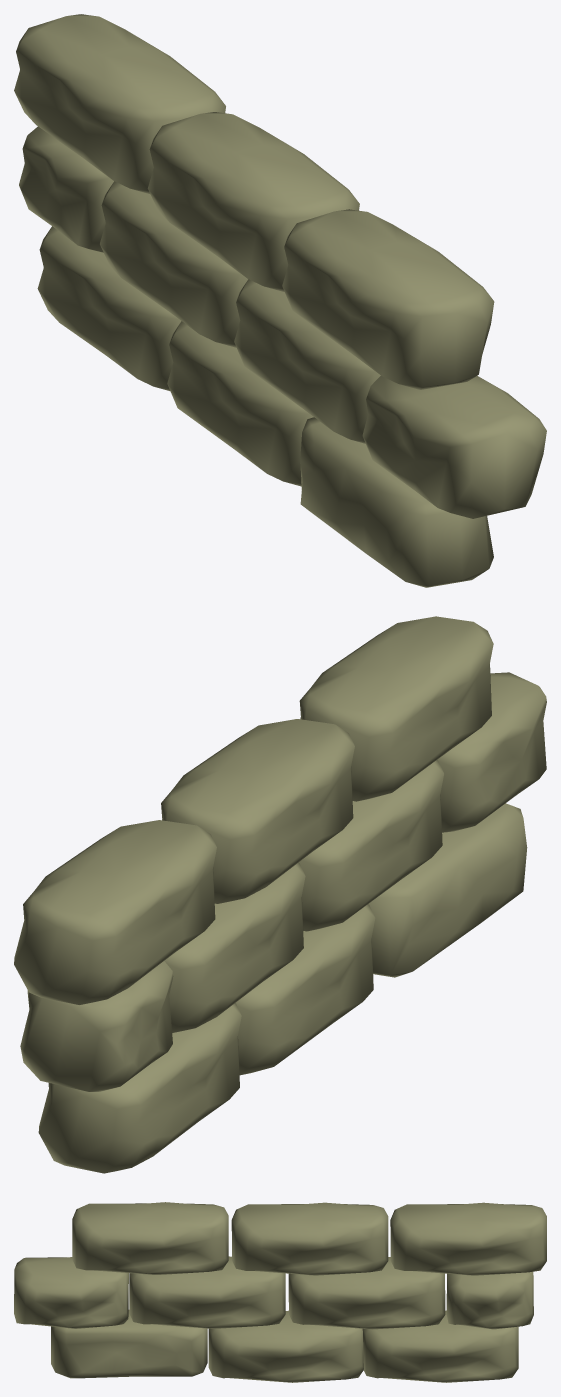
File: Muro de piedras.fbx
The picture shows the model from 3 angles, top to bottom: view 1: azimuth 30°, elevation 25°; view 2: azimuth 150°, elevation 25°; view 3: azimuth 270°, elevation 25°; orthographic projection. The views are drawn at different scales.
Parts seen in each view (by area): view 1: Cube.008; view 2: Cube.008; view 3: Cube.008.
Part boxes in pixels (x1=…): Cube.008: x1=14, y1=14, x2=546, y2=587; Cube.008: x1=14, y1=616, x2=546, y2=1173; Cube.008: x1=14, y1=1202, x2=546, y2=1382.
Bounding box in the file's own units: 106 × 223 × 669.
